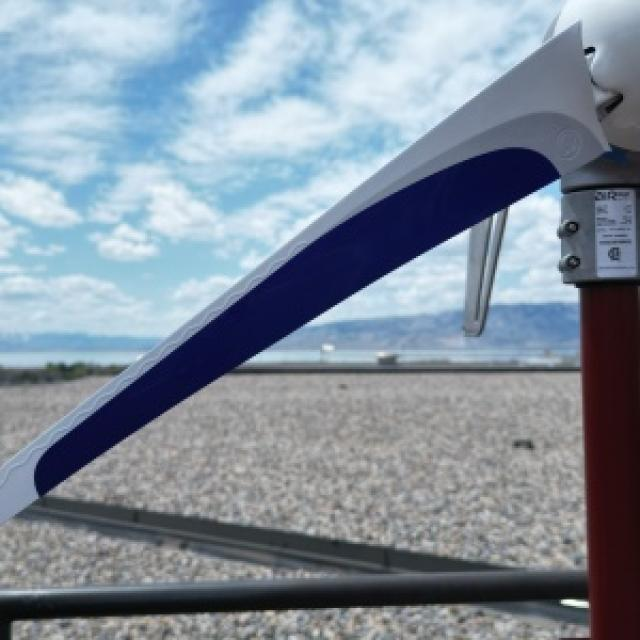healthy: (587, 390, 638, 638)
